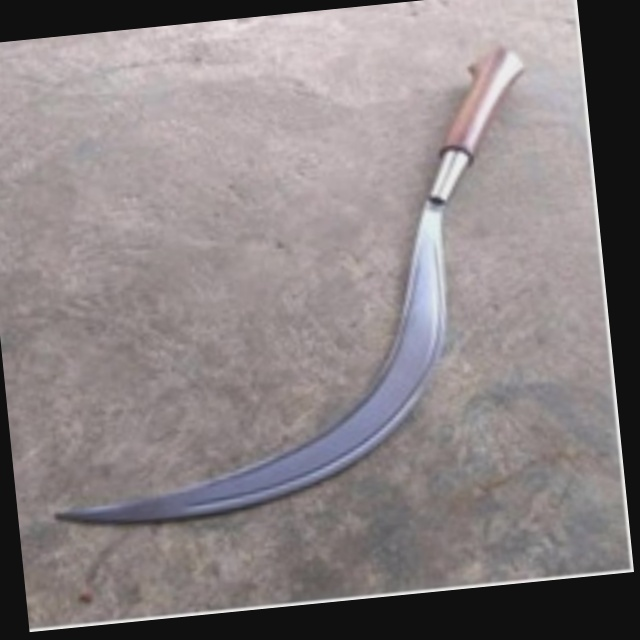Sharp-Object: (7, 40, 575, 536)
